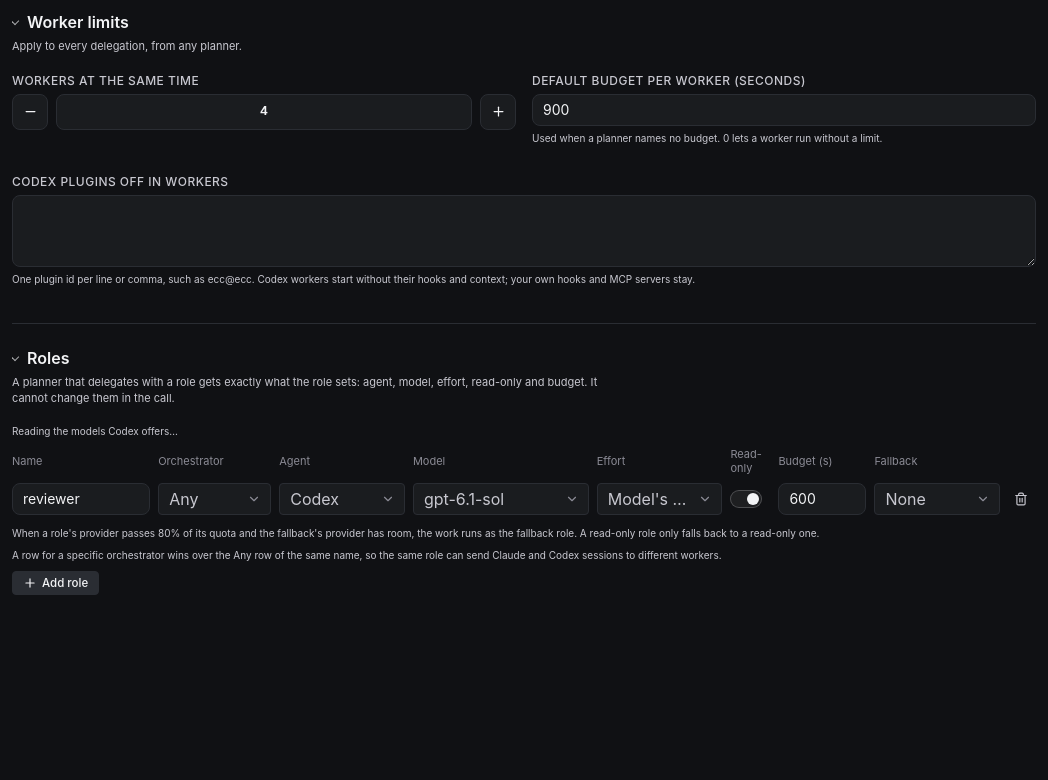
Scenario: OrchestrationPage › offers the Codex efforts while Codex is still listing its models
Click the button with aria-label "Effort for reviewer" at [660, 498], box x1=597 y1=482 x2=722 y2=514
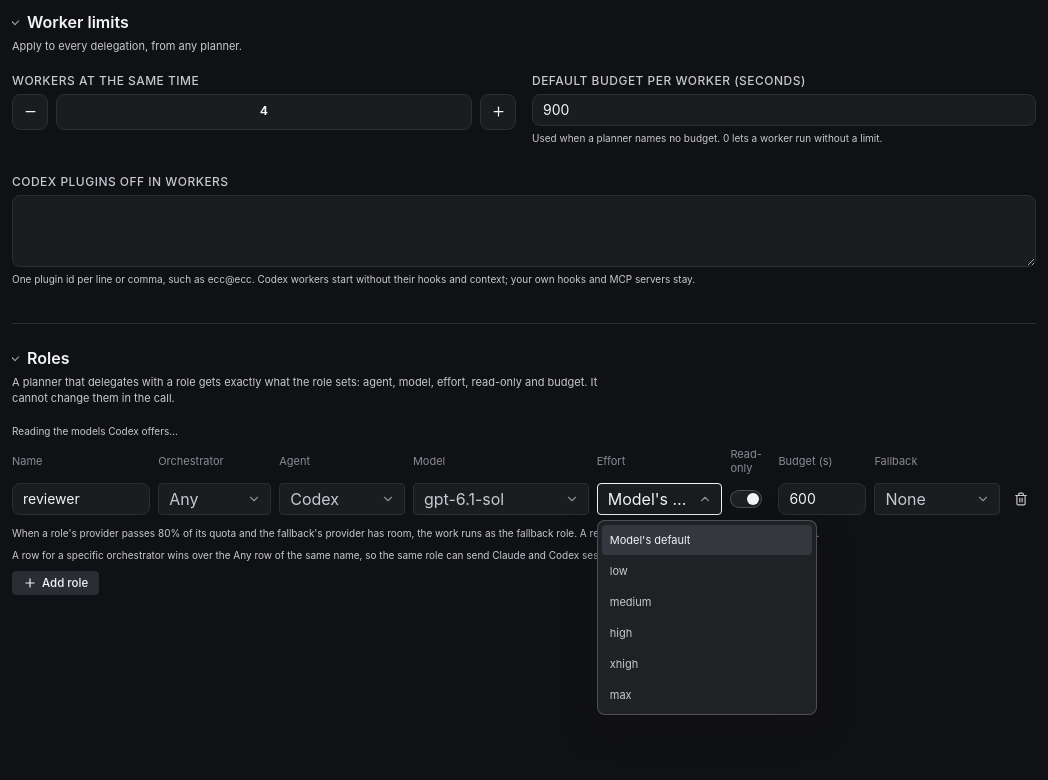
Check: the option "high" is shown, box x1=602 y1=618 x2=812 y2=648
